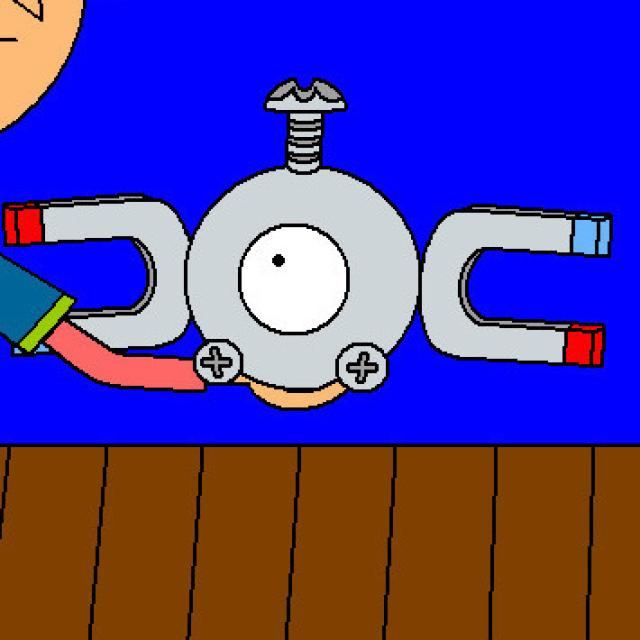Magnemite: (26, 100, 608, 384)
